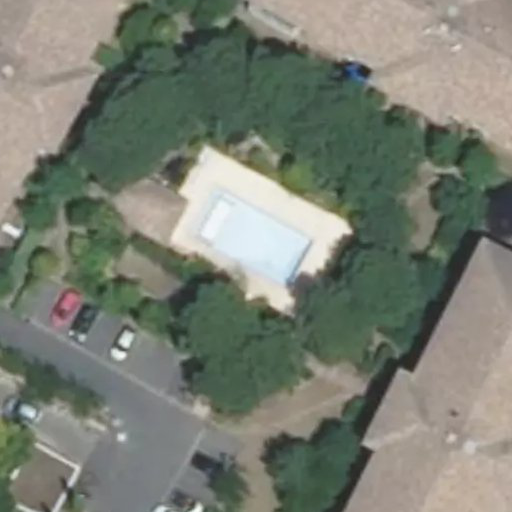pool: (201, 195, 310, 282)
